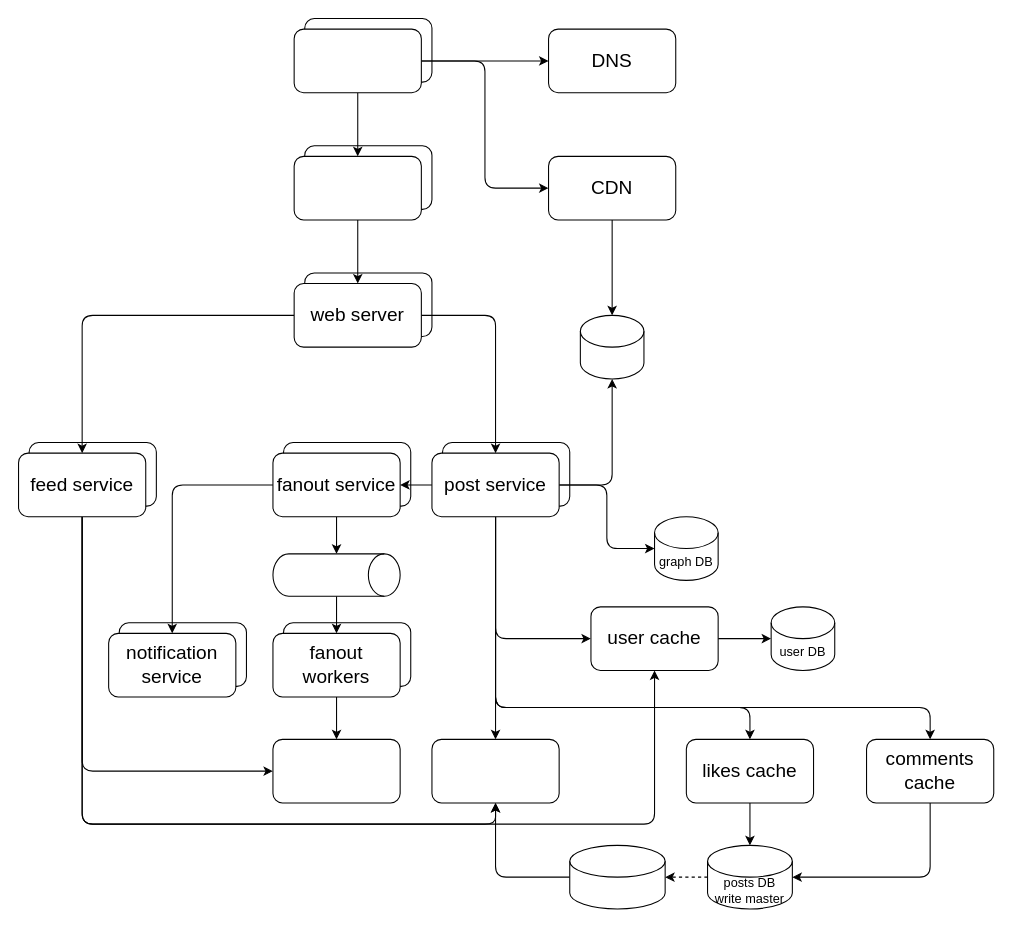
Some shapes in this 1012 by 927 pixel diagram are drawn without their labels. Each missing label, with the centre of its shape:
"client" goes at point 357,60.
"feed cache" goes at point 336,770.
"load balancer" goes at point 357,187.
"message queue" goes at point 336,574.
"Object storage" goes at point 611,346.
"posts cache" goes at point 495,770.
"posts DB read slave" goes at point 617,876.
